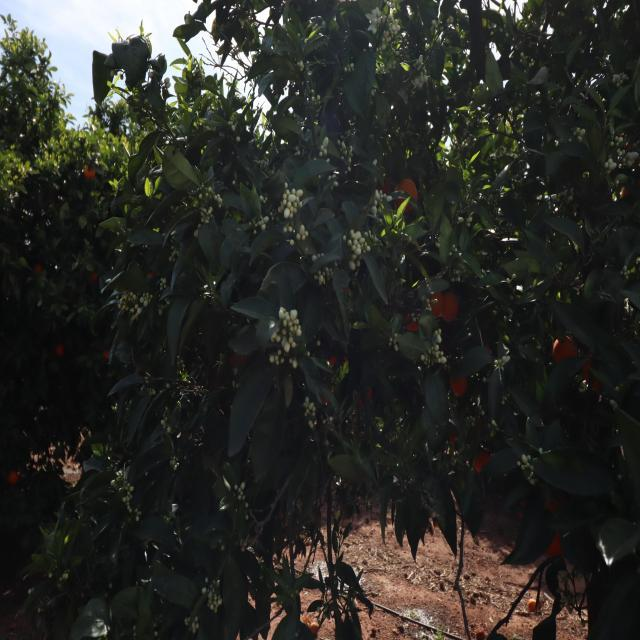Bunga: (346, 228, 364, 258), (282, 191, 298, 219), (272, 331, 294, 351), (279, 306, 298, 328), (366, 6, 380, 34), (303, 396, 315, 417), (296, 224, 310, 240), (389, 18, 401, 36), (604, 157, 618, 171), (613, 73, 627, 87)
Jeruk Sudah Matang: (433, 292, 461, 318), (552, 334, 574, 362), (450, 376, 470, 397), (402, 178, 420, 198), (82, 167, 95, 180), (9, 470, 20, 482), (89, 271, 99, 281), (56, 345, 65, 355), (35, 264, 44, 274), (100, 351, 110, 358)
